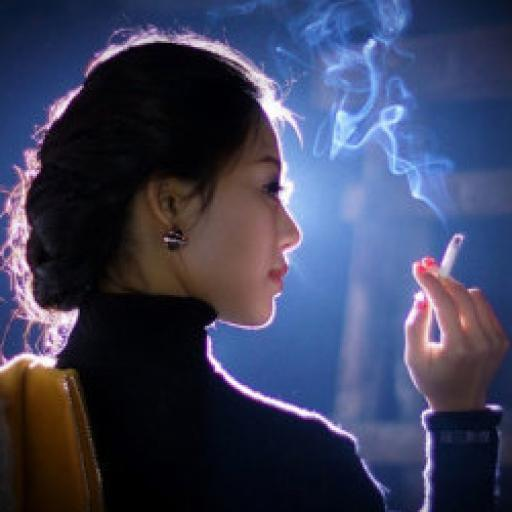terdeteksi pegang rokok: (391, 212, 512, 390)
